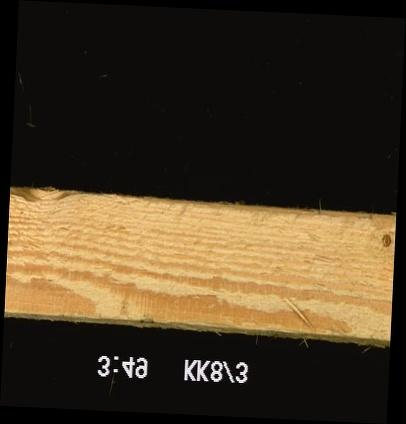dry_knot: (378, 231, 393, 250)
wave: (211, 204, 396, 217)
